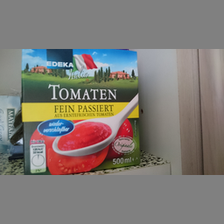tomato_sauce: (21, 49, 141, 175)
